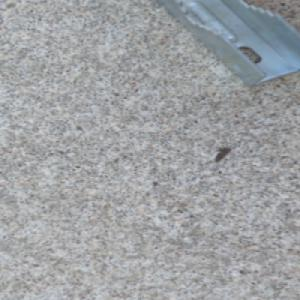ClampPart: (150, 0, 300, 87)
